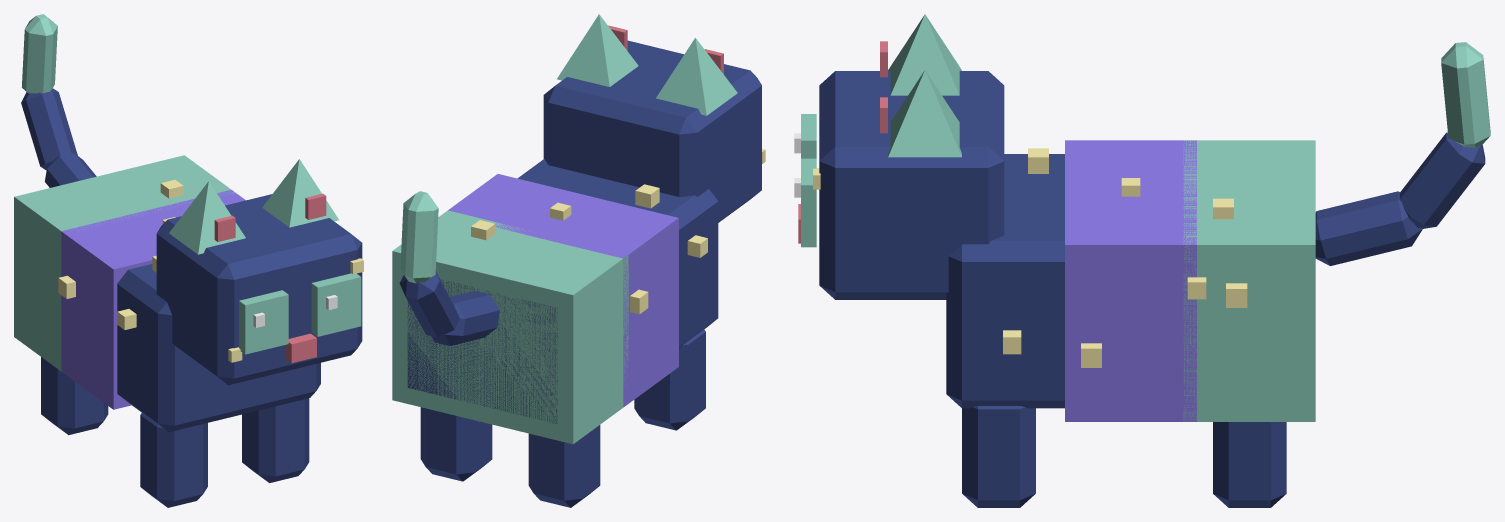
The model's file is CatCafe_Cat_Aurora.glb.
The picture shows the model from 3 angles, left to right: view 1: azimuth 30°, elevation 25°; view 2: azimuth 150°, elevation 25°; view 3: azimuth 270°, elevation 25°; orthographic projection. The views are drawn at different scales.
Visible parts, largest first — view 1: CatCafe_Cat_Aurora_Body, CatCafe_Cat_Aurora_Head, CatCafe_Cat_Aurora_Tail; view 2: CatCafe_Cat_Aurora_Body, CatCafe_Cat_Aurora_Head, CatCafe_Cat_Aurora_Tail; view 3: CatCafe_Cat_Aurora_Body, CatCafe_Cat_Aurora_Head, CatCafe_Cat_Aurora_Tail.
Part boxes in pixels (box(x1,y1,x2,y2)): CatCafe_Cat_Aurora_Body: box(14, 155, 320, 507); CatCafe_Cat_Aurora_Head: box(156, 159, 363, 385); CatCafe_Cat_Aurora_Tail: box(21, 14, 96, 187); CatCafe_Cat_Aurora_Body: box(392, 159, 718, 507); CatCafe_Cat_Aurora_Head: box(543, 14, 765, 222); CatCafe_Cat_Aurora_Tail: box(399, 191, 499, 345); CatCafe_Cat_Aurora_Body: box(946, 140, 1315, 507); CatCafe_Cat_Aurora_Head: box(794, 14, 1004, 299); CatCafe_Cat_Aurora_Tail: box(1315, 42, 1490, 265).
Size of the model in its own units: 1.04 by 1.78 by 2.64.
Materials: 1 (1 with a texture image).
